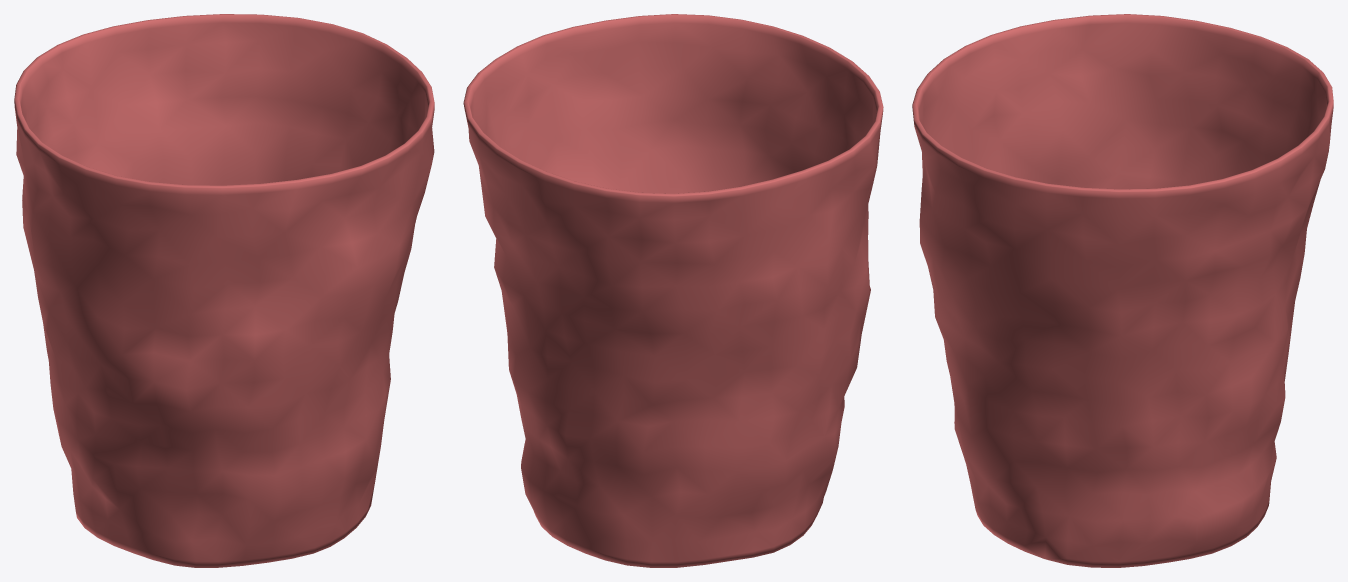
3 renders of one model, left to right at view 1: azimuth 30°, elevation 25°; view 2: azimuth 150°, elevation 25°; view 3: azimuth 270°, elevation 25°, orthographic.
Visible parts, largest first — view 1: a298b94793fcfd8ec680c786d8eee884610455b1 > > root >; view 2: a298b94793fcfd8ec680c786d8eee884610455b1 > > root >; view 3: a298b94793fcfd8ec680c786d8eee884610455b1 > > root >.
Part boxes in pixels (x1,y1,x2,y2): a298b94793fcfd8ec680c786d8eee884610455b1 > > root >: (14, 14, 434, 567); a298b94793fcfd8ec680c786d8eee884610455b1 > > root >: (463, 14, 883, 567); a298b94793fcfd8ec680c786d8eee884610455b1 > > root >: (912, 14, 1333, 567).
Size of the model in its own units: 0.31 by 0.33 by 0.31.
